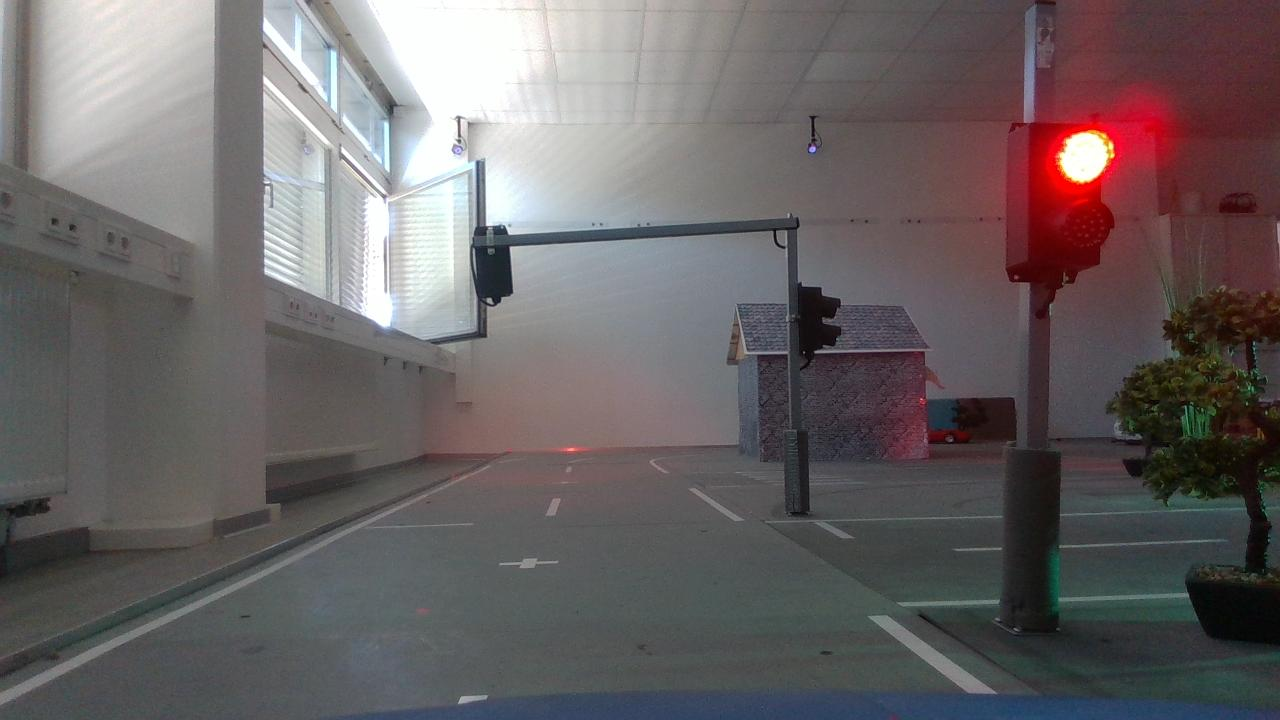traffic_light_red: (986, 100, 1132, 306)
